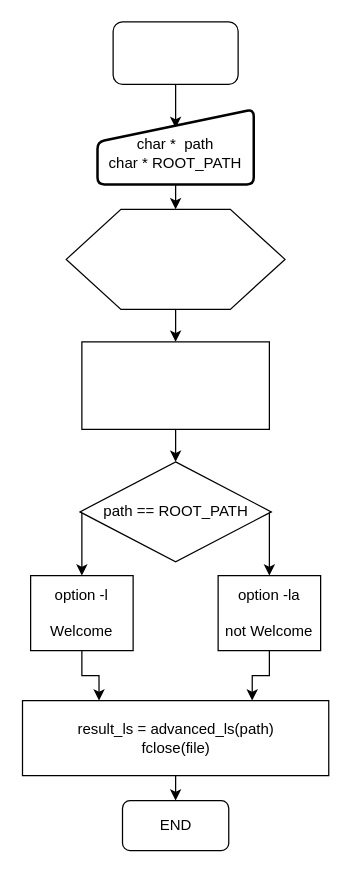
The diagram is 350 pixels wide and 873 high, and some of its shapes have lost their labels. Each missing label, with the box of its shape:
FILE * file = fopen(html, "w") int result_ls: (65, 208, 285, 309)
Print html format to file Print path to title of html: (81, 341, 269, 429)
Start: (112, 21, 238, 84)
